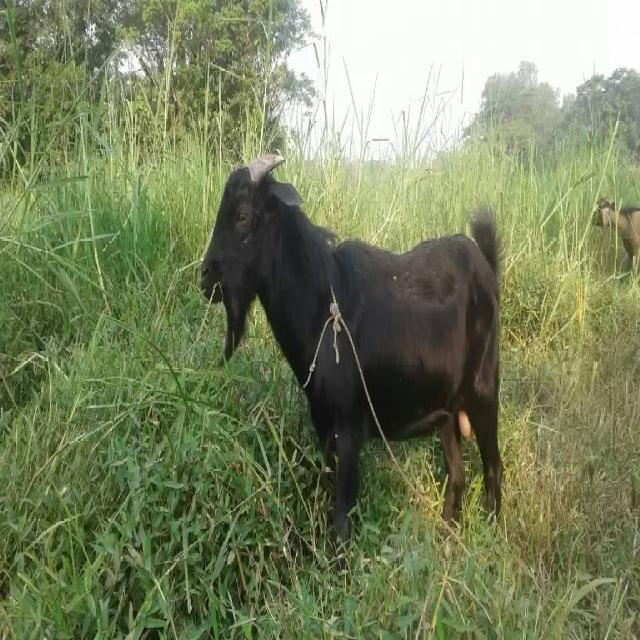Goat: (200, 151, 504, 551), (592, 196, 640, 276)
